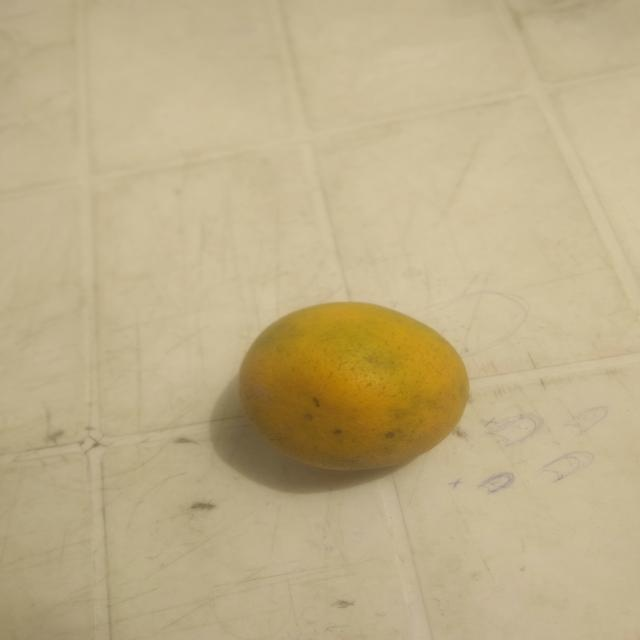agrume: (206, 292, 502, 502)
